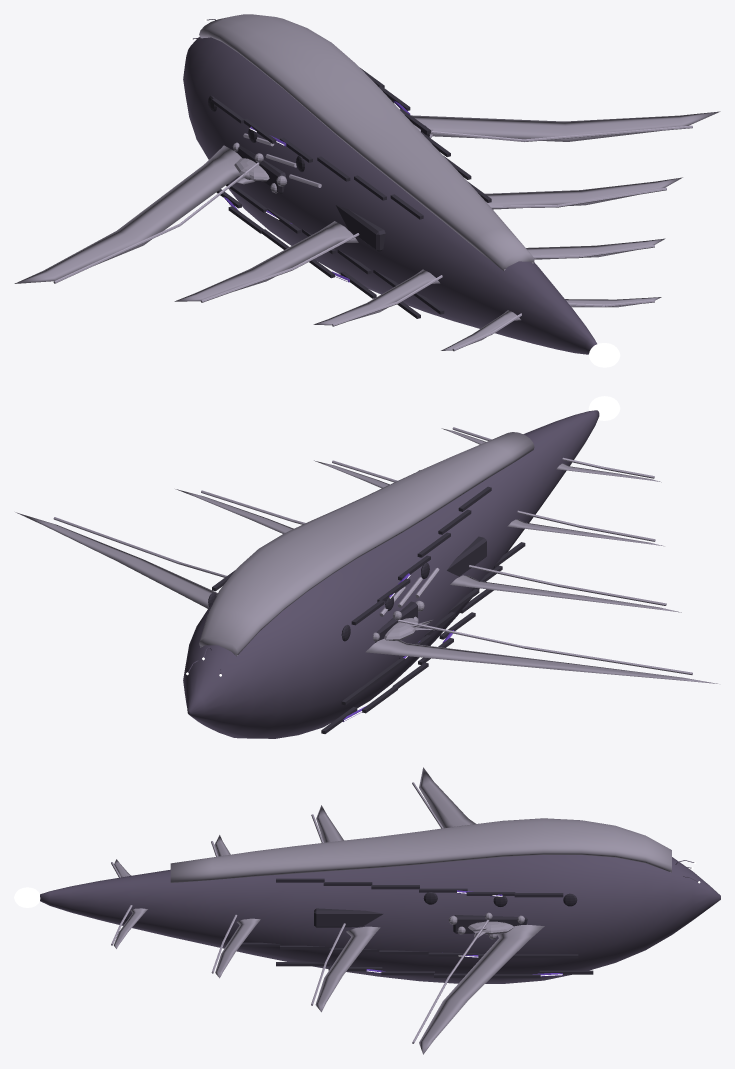
The picture shows the model from 3 angles, top to bottom: view 1: azimuth 30°, elevation 25°; view 2: azimuth 150°, elevation 25°; view 3: azimuth 270°, elevation 25°; orthographic projection. The views are drawn at different scales.
Visible parts, largest first — view 1: RIMWARD_HULL, RIMWARD_ENGINE_GLOW; view 2: RIMWARD_HULL, RIMWARD_ENGINE_GLOW; view 3: RIMWARD_HULL.
Boxes of the visible parts, box(x1,y1,x2,y2) form: RIMWARD_HULL: box(14, 14, 720, 354); RIMWARD_ENGINE_GLOW: box(588, 343, 620, 367); RIMWARD_HULL: box(15, 410, 717, 738); RIMWARD_ENGINE_GLOW: box(588, 396, 620, 420); RIMWARD_HULL: box(40, 767, 720, 1054).
Size of the model in its own units: 28.93 by 7.07 by 30.02.
